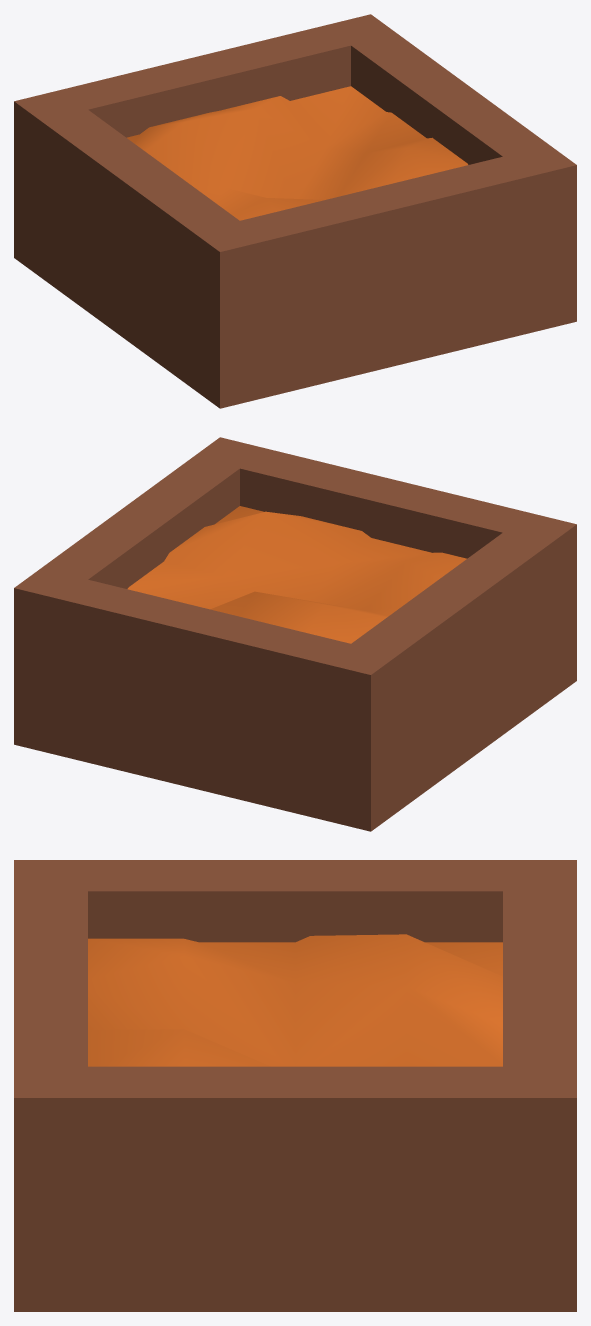
The model's file is Market_goods_3.fbx.
3 views of the same model, one above another, from view 1: azimuth 30°, elevation 25°; view 2: azimuth 150°, elevation 25°; view 3: azimuth 270°, elevation 25° (orthographic). The views are drawn at different scales.
Parts seen in each view (by area): view 1: Market_goods_3; view 2: Market_goods_3; view 3: Market_goods_3.
Part boxes in pixels (left/top/right/bottom): Market_goods_3: left=14, top=14, right=576, bottom=408; Market_goods_3: left=14, top=437, right=576, bottom=831; Market_goods_3: left=14, top=860, right=576, bottom=1311.
Bounding box in the file's own units: 0.228 × 0.0956 × 0.228.
